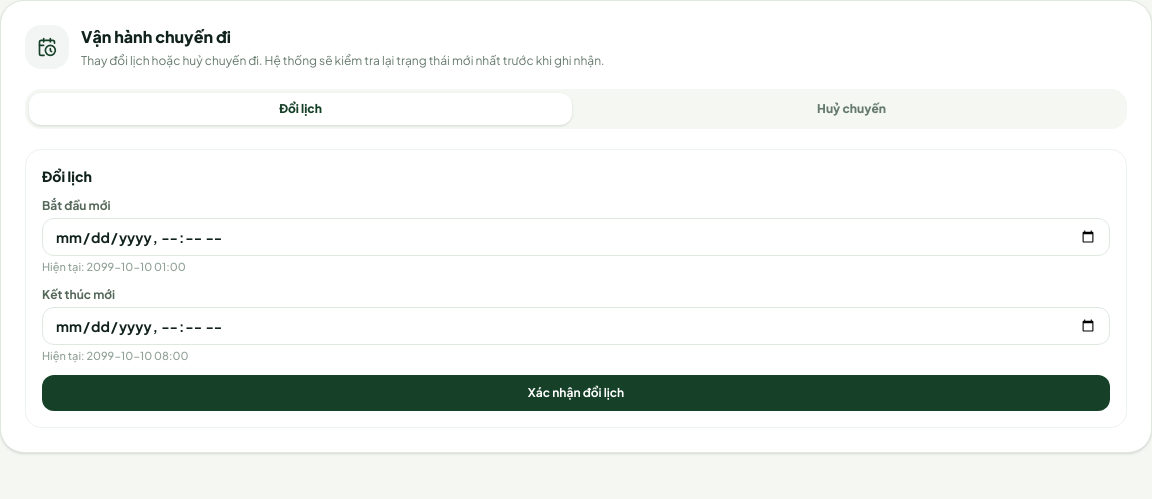
it: HostTripOperationsPanel › requires an actual schedule change before rescheduling
Click the button "Xác nhận đổi lịch": [576, 393] box [42, 375, 1110, 411]
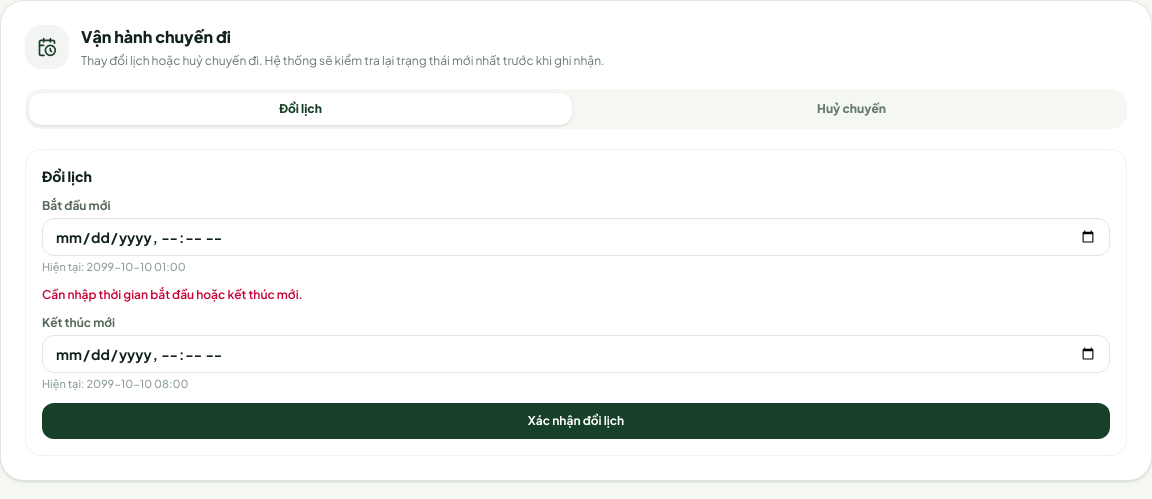
Expected: the text "Cần nhập thời gian bắt đầu hoặc kết thúc mới." is shown, [42, 287, 303, 302]
